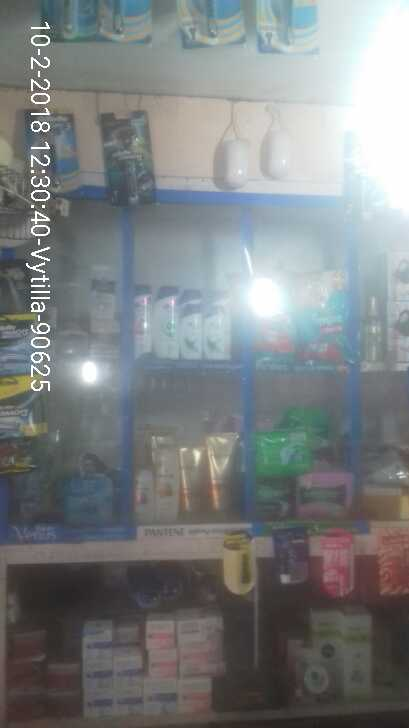gillete: (27, 109, 85, 194), (106, 109, 150, 205), (1, 376, 41, 427), (1, 259, 34, 313), (1, 316, 35, 365)
venus: (61, 473, 114, 519)
